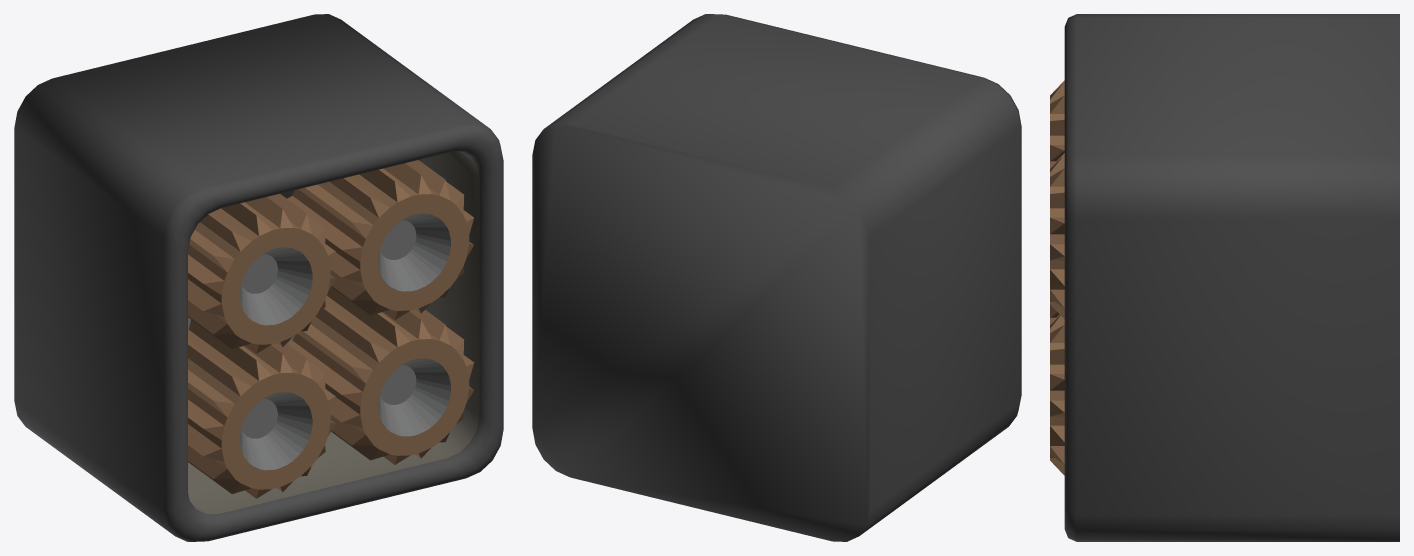
File: crusher.glb
The picture shows the model from 3 angles, left to right: view 1: azimuth 30°, elevation 25°; view 2: azimuth 150°, elevation 25°; view 3: azimuth 270°, elevation 25°; orthographic projection. The views are drawn at different scales.
Parts seen in each view (by area): view 1: Plane.005, Cylinder.003, Cylinder.002, Cylinder.004, Cylinder.001; view 2: Plane.005; view 3: Plane.005, Cylinder.002, Cylinder.003, Cylinder.001.
Part boxes in pixels (x1=…): Plane.005: x1=14, y1=14, x2=503, y2=541; Cylinder.003: x1=287, y1=287, x2=474, y2=464; Cylinder.002: x1=287, y1=160, x2=473, y2=319; Cylinder.004: x1=188, y1=320, x2=335, y2=498; Cylinder.001: x1=188, y1=194, x2=335, y2=353; Plane.005: x1=532, y1=14, x2=1021, y2=541; Plane.005: x1=1064, y1=14, x2=1399, y2=541; Cylinder.002: x1=1050, y1=153, x2=1064, y2=318; Cylinder.003: x1=1050, y1=314, x2=1064, y2=475; Cylinder.001: x1=1050, y1=80, x2=1064, y2=167.
Size of the model in its own units: 0.8782 by 0.8782 by 0.7301.
